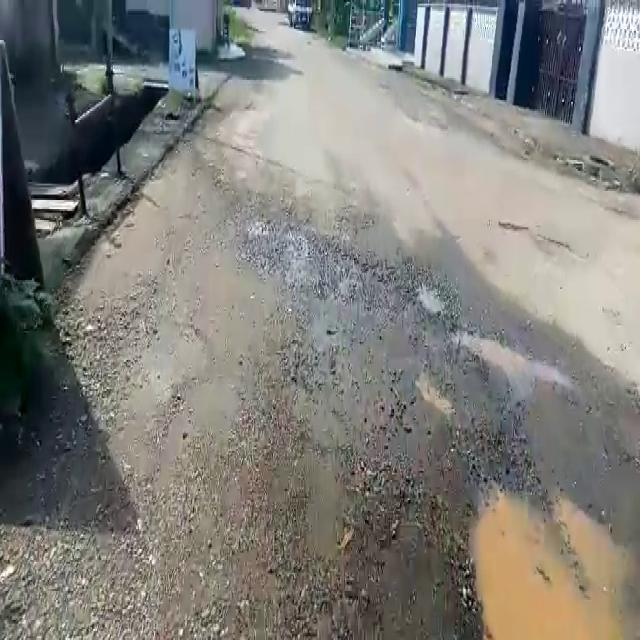pothole: (466, 488, 628, 636), (417, 278, 451, 321)
